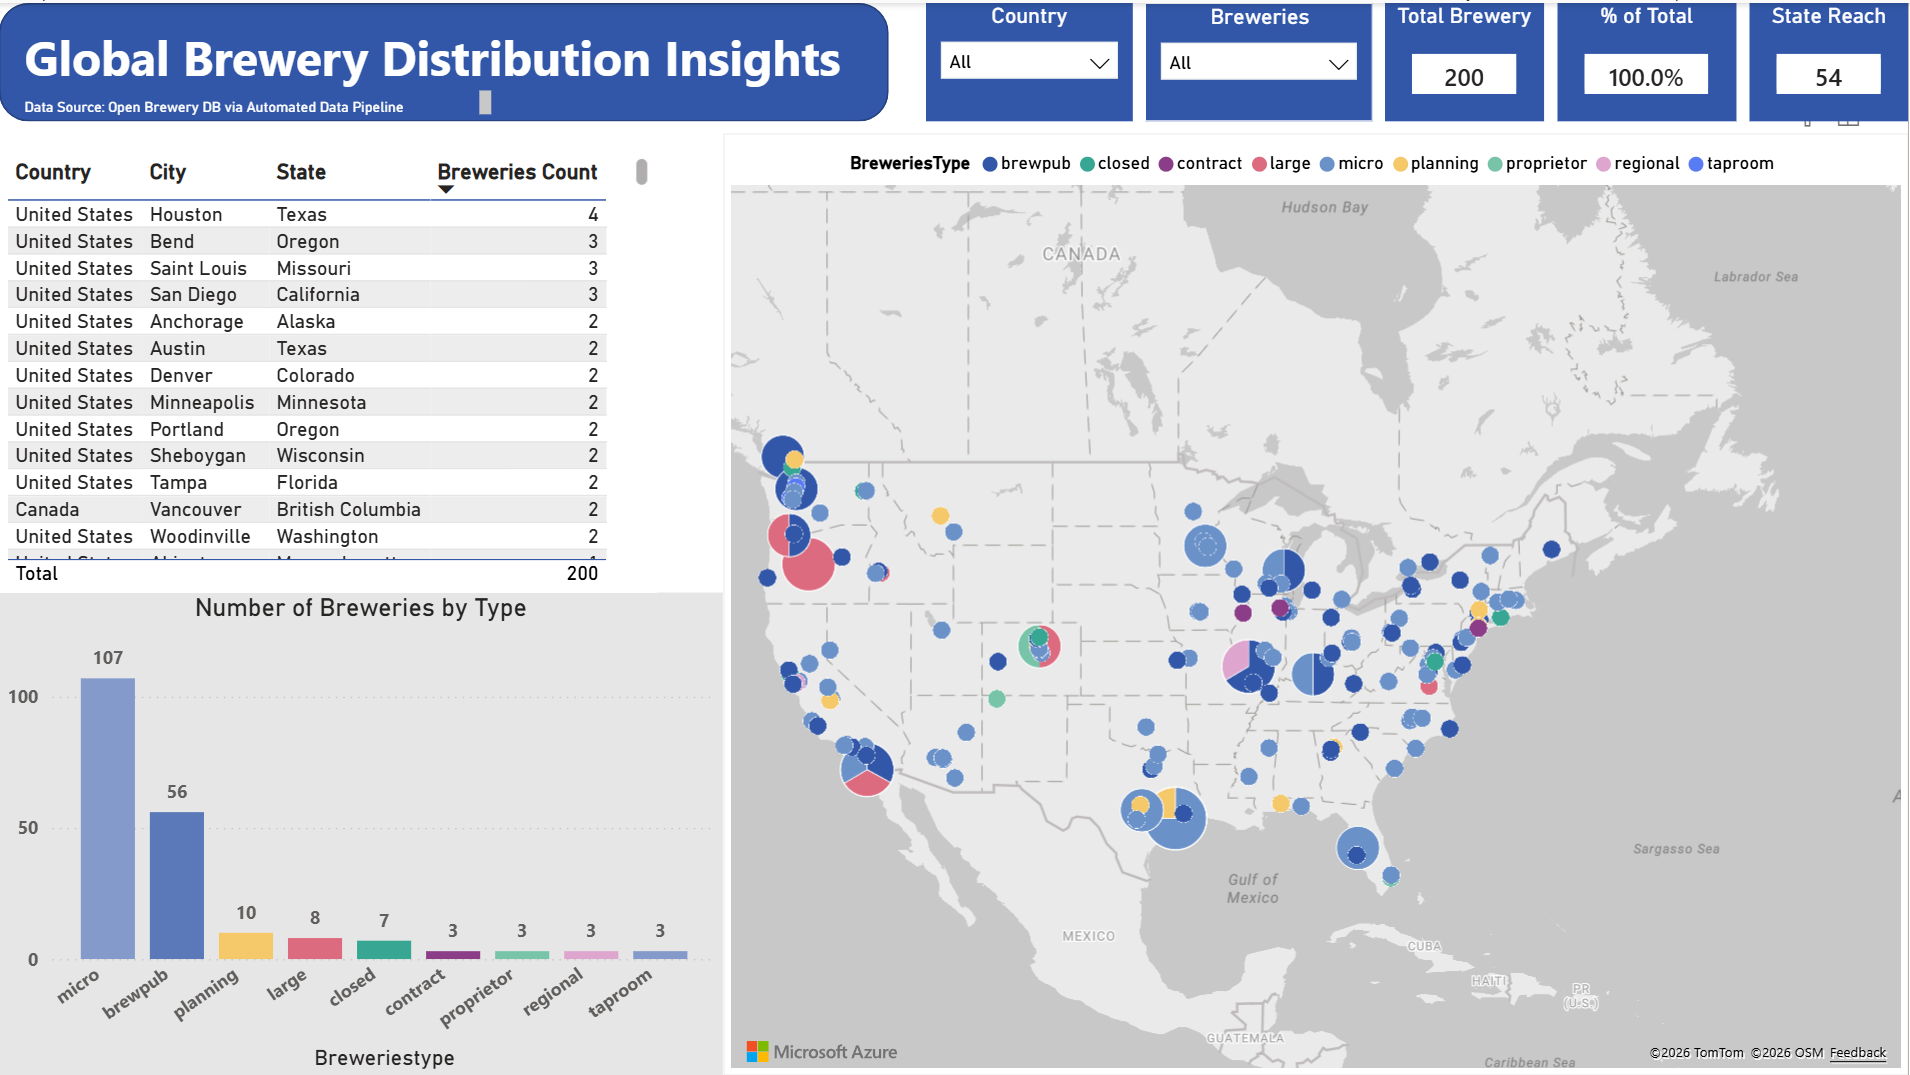

The page's visual inventory and layout, read from the dashboard file:
{"tool":"powerbi","page":{"name":"หน้า 1","canvas":[1280,720],"ordinal":0},"visuals":[{"type":"azureMap","fields":{"Category":["dbt_chotiratwithgit_public stg_breweries.city"],"Size":["CountNonNull(dbt_chotiratwithgit_public stg_breweries.id)"],"Series":["dbt_chotiratwithgit_public stg_breweries.brewery_type"]},"box":[485.8,87.5,794.6,631.6],"z":0},{"type":"cardVisual","title":"Total Brewery","fields":{"Data":["dbt_chotiratwithgit_public stg_breweries.Total Breweries"]},"box":[929.3,0,106.6,79.5],"z":1000},{"type":"slicer","title":"Country","fields":{"Values":["dbt_chotiratwithgit_public stg_breweries.country"]},"box":[621.6,0,138.8,79.5],"z":2000},{"type":"clusteredColumnChart","title":"Number of Breweries by Type","fields":{"Category":["dbt_chotiratwithgit_public stg_breweries.brewery_type"],"Y":["CountNonNull(dbt_chotiratwithgit_public stg_breweries.id)"]},"box":[0,395.1,485.5,324.4],"z":3000},{"type":"slicer","title":"Breweries","fields":{"Values":["dbt_chotiratwithgit_public stg_breweries.brewery_type"]},"box":[768.4,0,152.9,79.5],"z":4000},{"type":"tableEx","fields":{"Values":["dbt_chotiratwithgit_public stg_breweries.country","dbt_chotiratwithgit_public stg_breweries.city","dbt_chotiratwithgit_public stg_breweries.state_name","dbt_chotiratwithgit_public stg_breweries.countid"]},"box":[0,98.6,440.5,296.7],"z":5000},{"type":"shape","box":[0,0,596.4,79.5],"z":6000},{"type":"textbox","box":[12.1,9.1,568.3,57.3],"z":7000},{"type":"textbox","box":[12.1,53.3,322.9,26.2],"z":7001},{"type":"cardVisual","title":"% of Total ","fields":{"Data":["dbt_chotiratwithgit_public stg_breweries.% of Total by Type"]},"box":[1045,0,119.7,79.5],"z":7002},{"type":"cardVisual","title":"State Reach","fields":{"Data":["dbt_chotiratwithgit_public stg_breweries.Active States"]},"box":[1173.7,0,106.6,79.5],"z":7003}]}

Visuals, with their boxes in screenshot pixels (x1, y1, x2, y2), scaled from the page's 1280x720 canvas onto the 1910x1075 screenshot:
azureMap - dbt_chotiratwithgit_public stg_breweries.city x CountNonNull(dbt_chotiratwithgit_public stg_breweries.id): 725, 131, 1909, 1074
"Total Brewery" cardVisual: 1387, 0, 1546, 119
"Country" slicer: 928, 0, 1135, 119
"Number of Breweries by Type" clusteredColumnChart: 0, 590, 724, 1074
"Breweries" slicer: 1147, 0, 1375, 119
tableEx - dbt_chotiratwithgit_public stg_breweries.country x dbt_chotiratwithgit_public stg_breweries.city: 0, 147, 657, 590
shape: 0, 0, 890, 119
textbox: 18, 14, 866, 99
textbox: 18, 80, 500, 119
"% of Total " cardVisual: 1559, 0, 1738, 119
"State Reach" cardVisual: 1751, 0, 1909, 119
